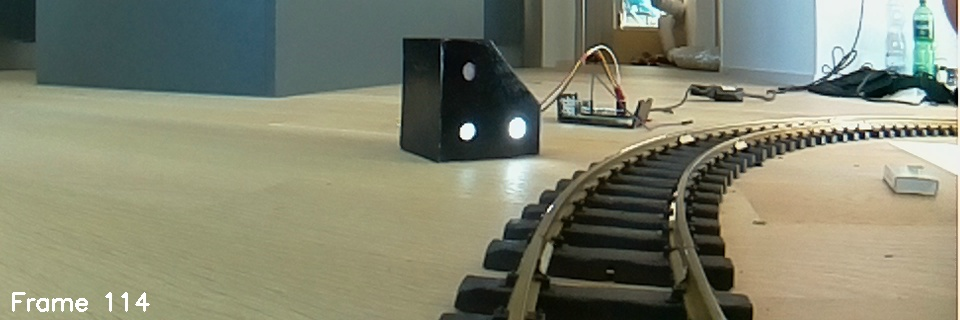Halt: (399, 36, 543, 169)
